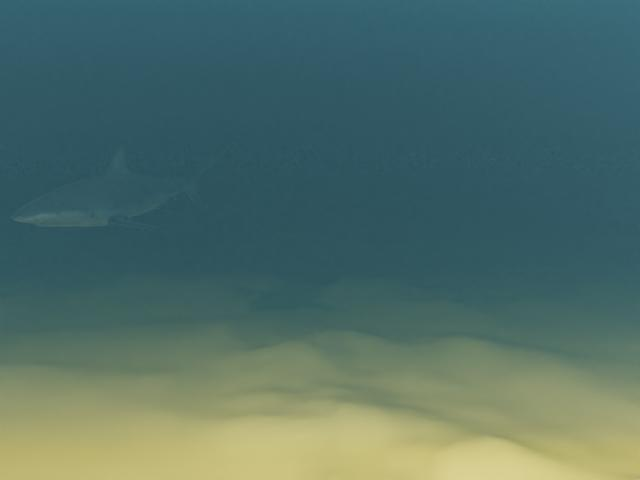Carribean Shark.001: (11, 141, 237, 232)
